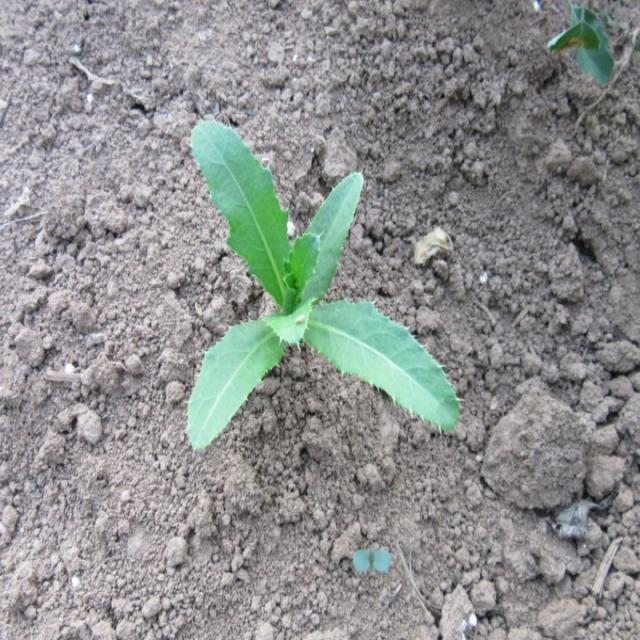cs: (184, 111, 464, 456)
